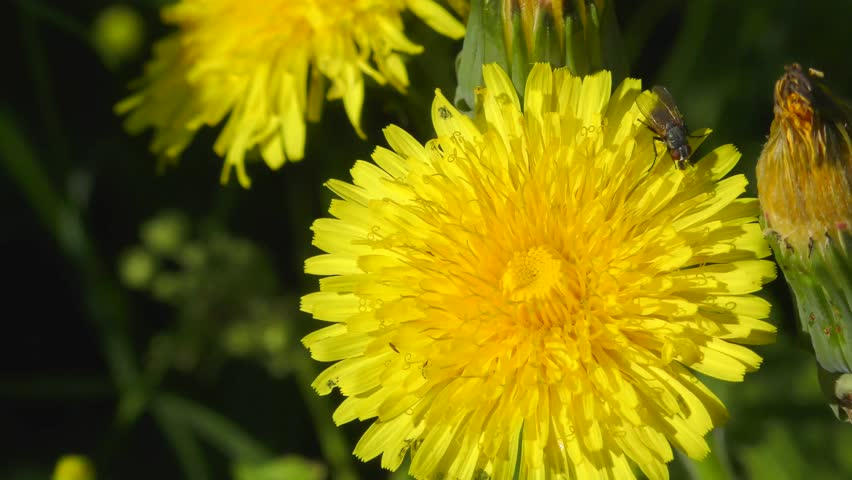dandelion: (331, 143, 738, 460), (141, 16, 433, 127)
